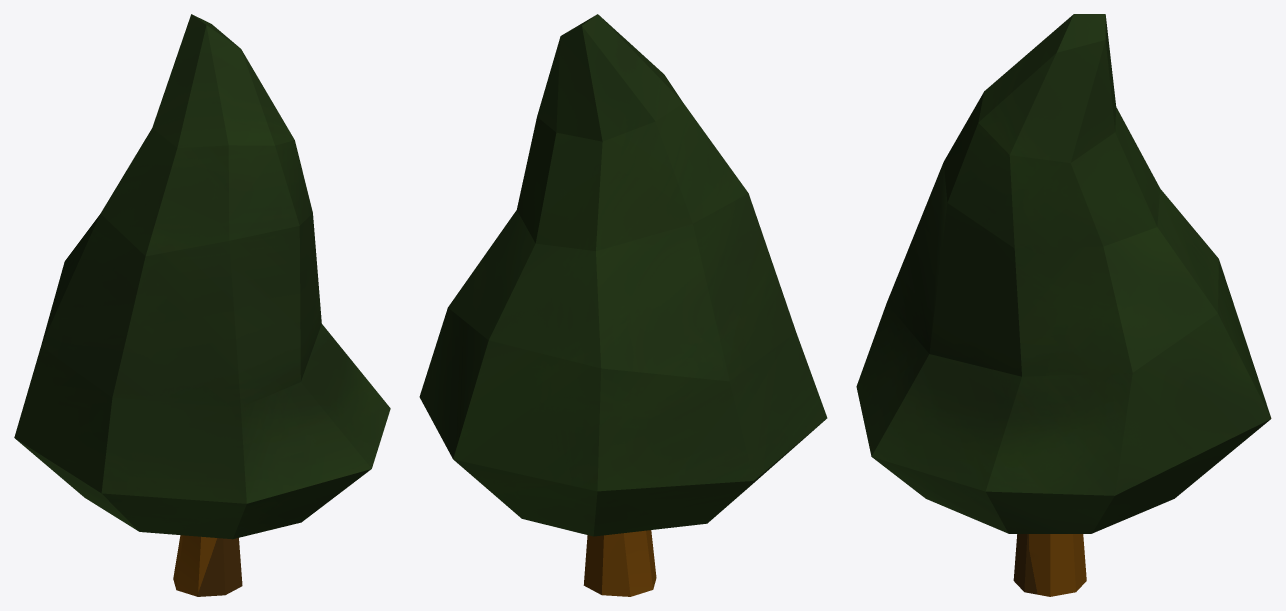
The model's file is tree_01_exp 1.fbx.
3 renders of one model, left to right at view 1: azimuth 30°, elevation 25°; view 2: azimuth 150°, elevation 25°; view 3: azimuth 270°, elevation 25°, orthographic. The views are drawn at different scales.
Parts seen in each view (by area): view 1: tree_01; view 2: tree_01; view 3: tree_01.
Part boxes in pixels (x1,y1,x2,y2): tree_01: (14, 14, 390, 596); tree_01: (419, 14, 827, 596); tree_01: (856, 14, 1271, 596).
Size of the model in its own units: 7.89 by 12.85 by 8.45.
